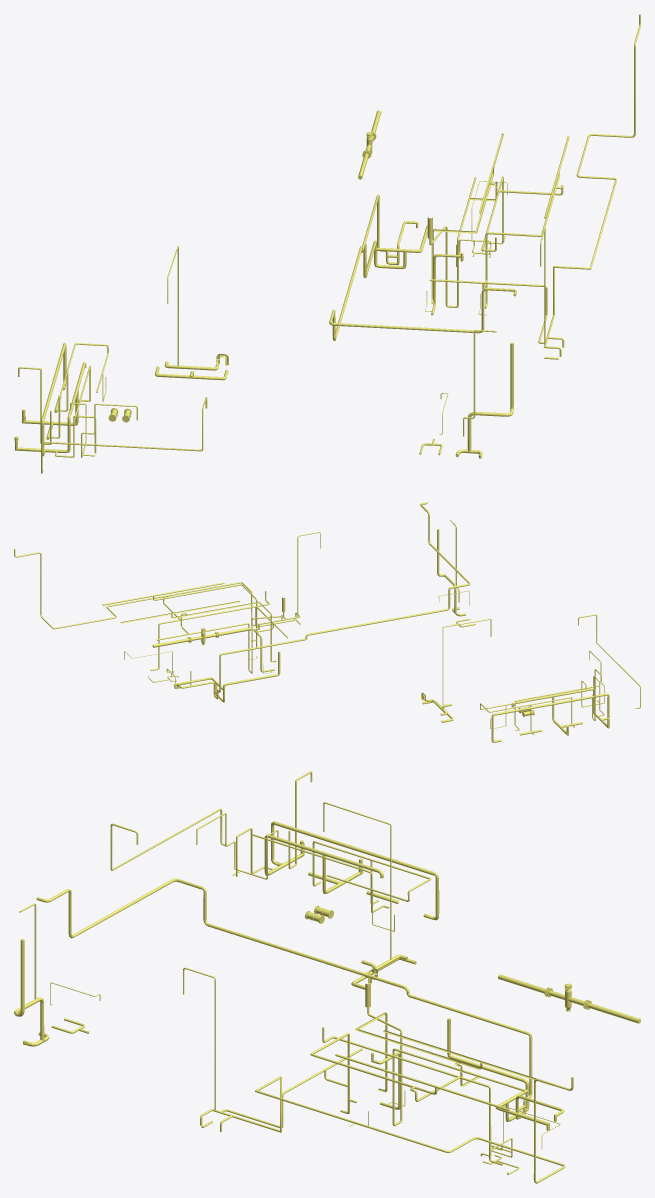
The model's file is NoLod_1.glb.
The picture shows the model from 3 angles, top to bottom: view 1: azimuth 30°, elevation 25°; view 2: azimuth 150°, elevation 25°; view 3: azimuth 270°, elevation 25°; orthographic projection. The views are drawn at different scales.
Visible parts, largest first — view 1: rtc; view 2: rtc; view 3: rtc.
Part boxes in pixels (x1,y1,x2,y2): rtc: (14,14,640,473); rtc: (14,502,640,742); rtc: (14,771,640,1183).
Size of the model in its own units: 68.3 by 14.91 by 43.56.
